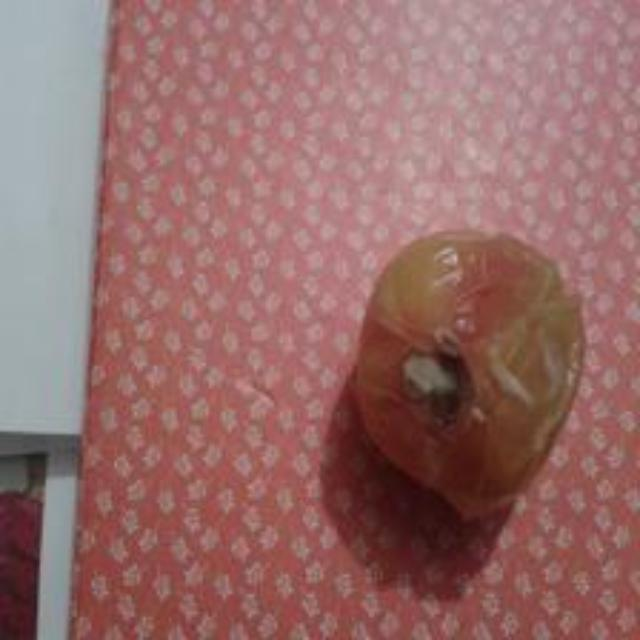defect: (344, 205, 597, 518)
